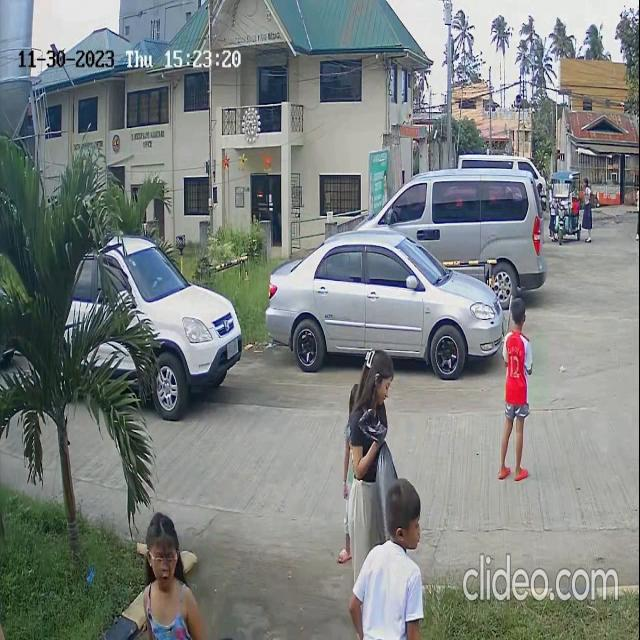person: (348, 344, 402, 494), (139, 505, 195, 636), (381, 475, 425, 634), (502, 299, 531, 398)
